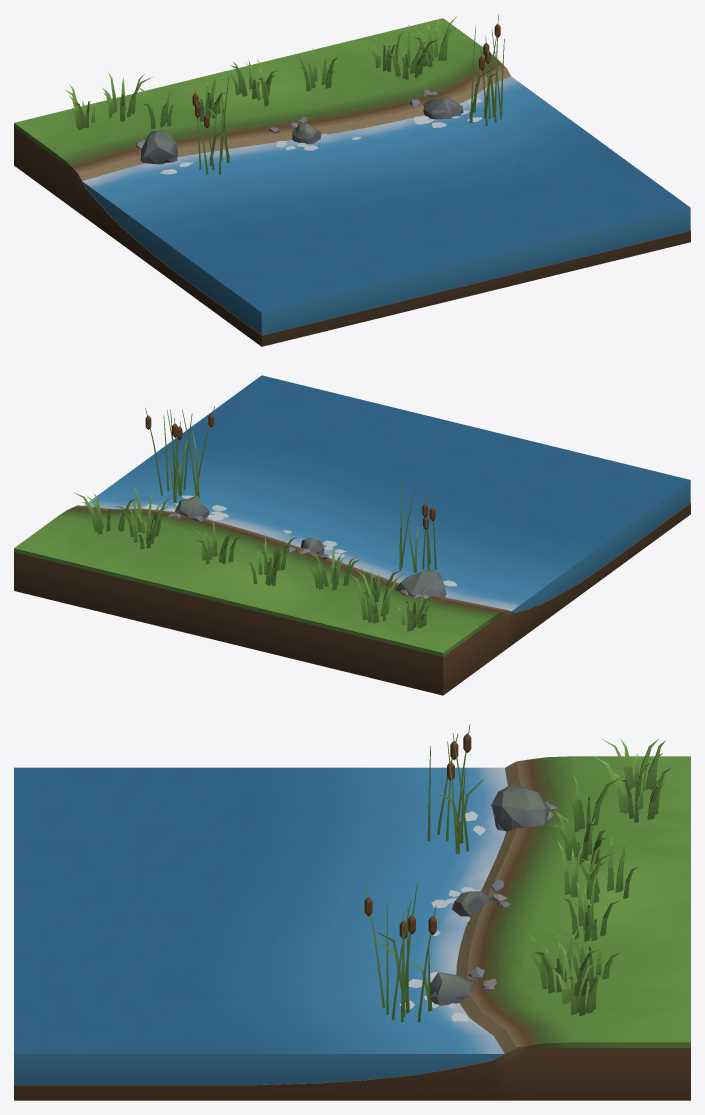
File: lake-shore-straight.glb
The picture shows the model from 3 angles, top to bottom: view 1: azimuth 30°, elevation 25°; view 2: azimuth 150°, elevation 25°; view 3: azimuth 270°, elevation 25°; orthographic projection. The views are drawn at different scales.
Parts seen in each view (by area): view 1: lake_shore_straight; view 2: lake_shore_straight; view 3: lake_shore_straight.
Boxes of the visible parts, x1,y1,x2,y2 form: lake_shore_straight: (14, 14, 690, 346); lake_shore_straight: (14, 375, 690, 695); lake_shore_straight: (14, 724, 690, 1100).
Size of the model in its own units: 4 by 1.11 by 4.
